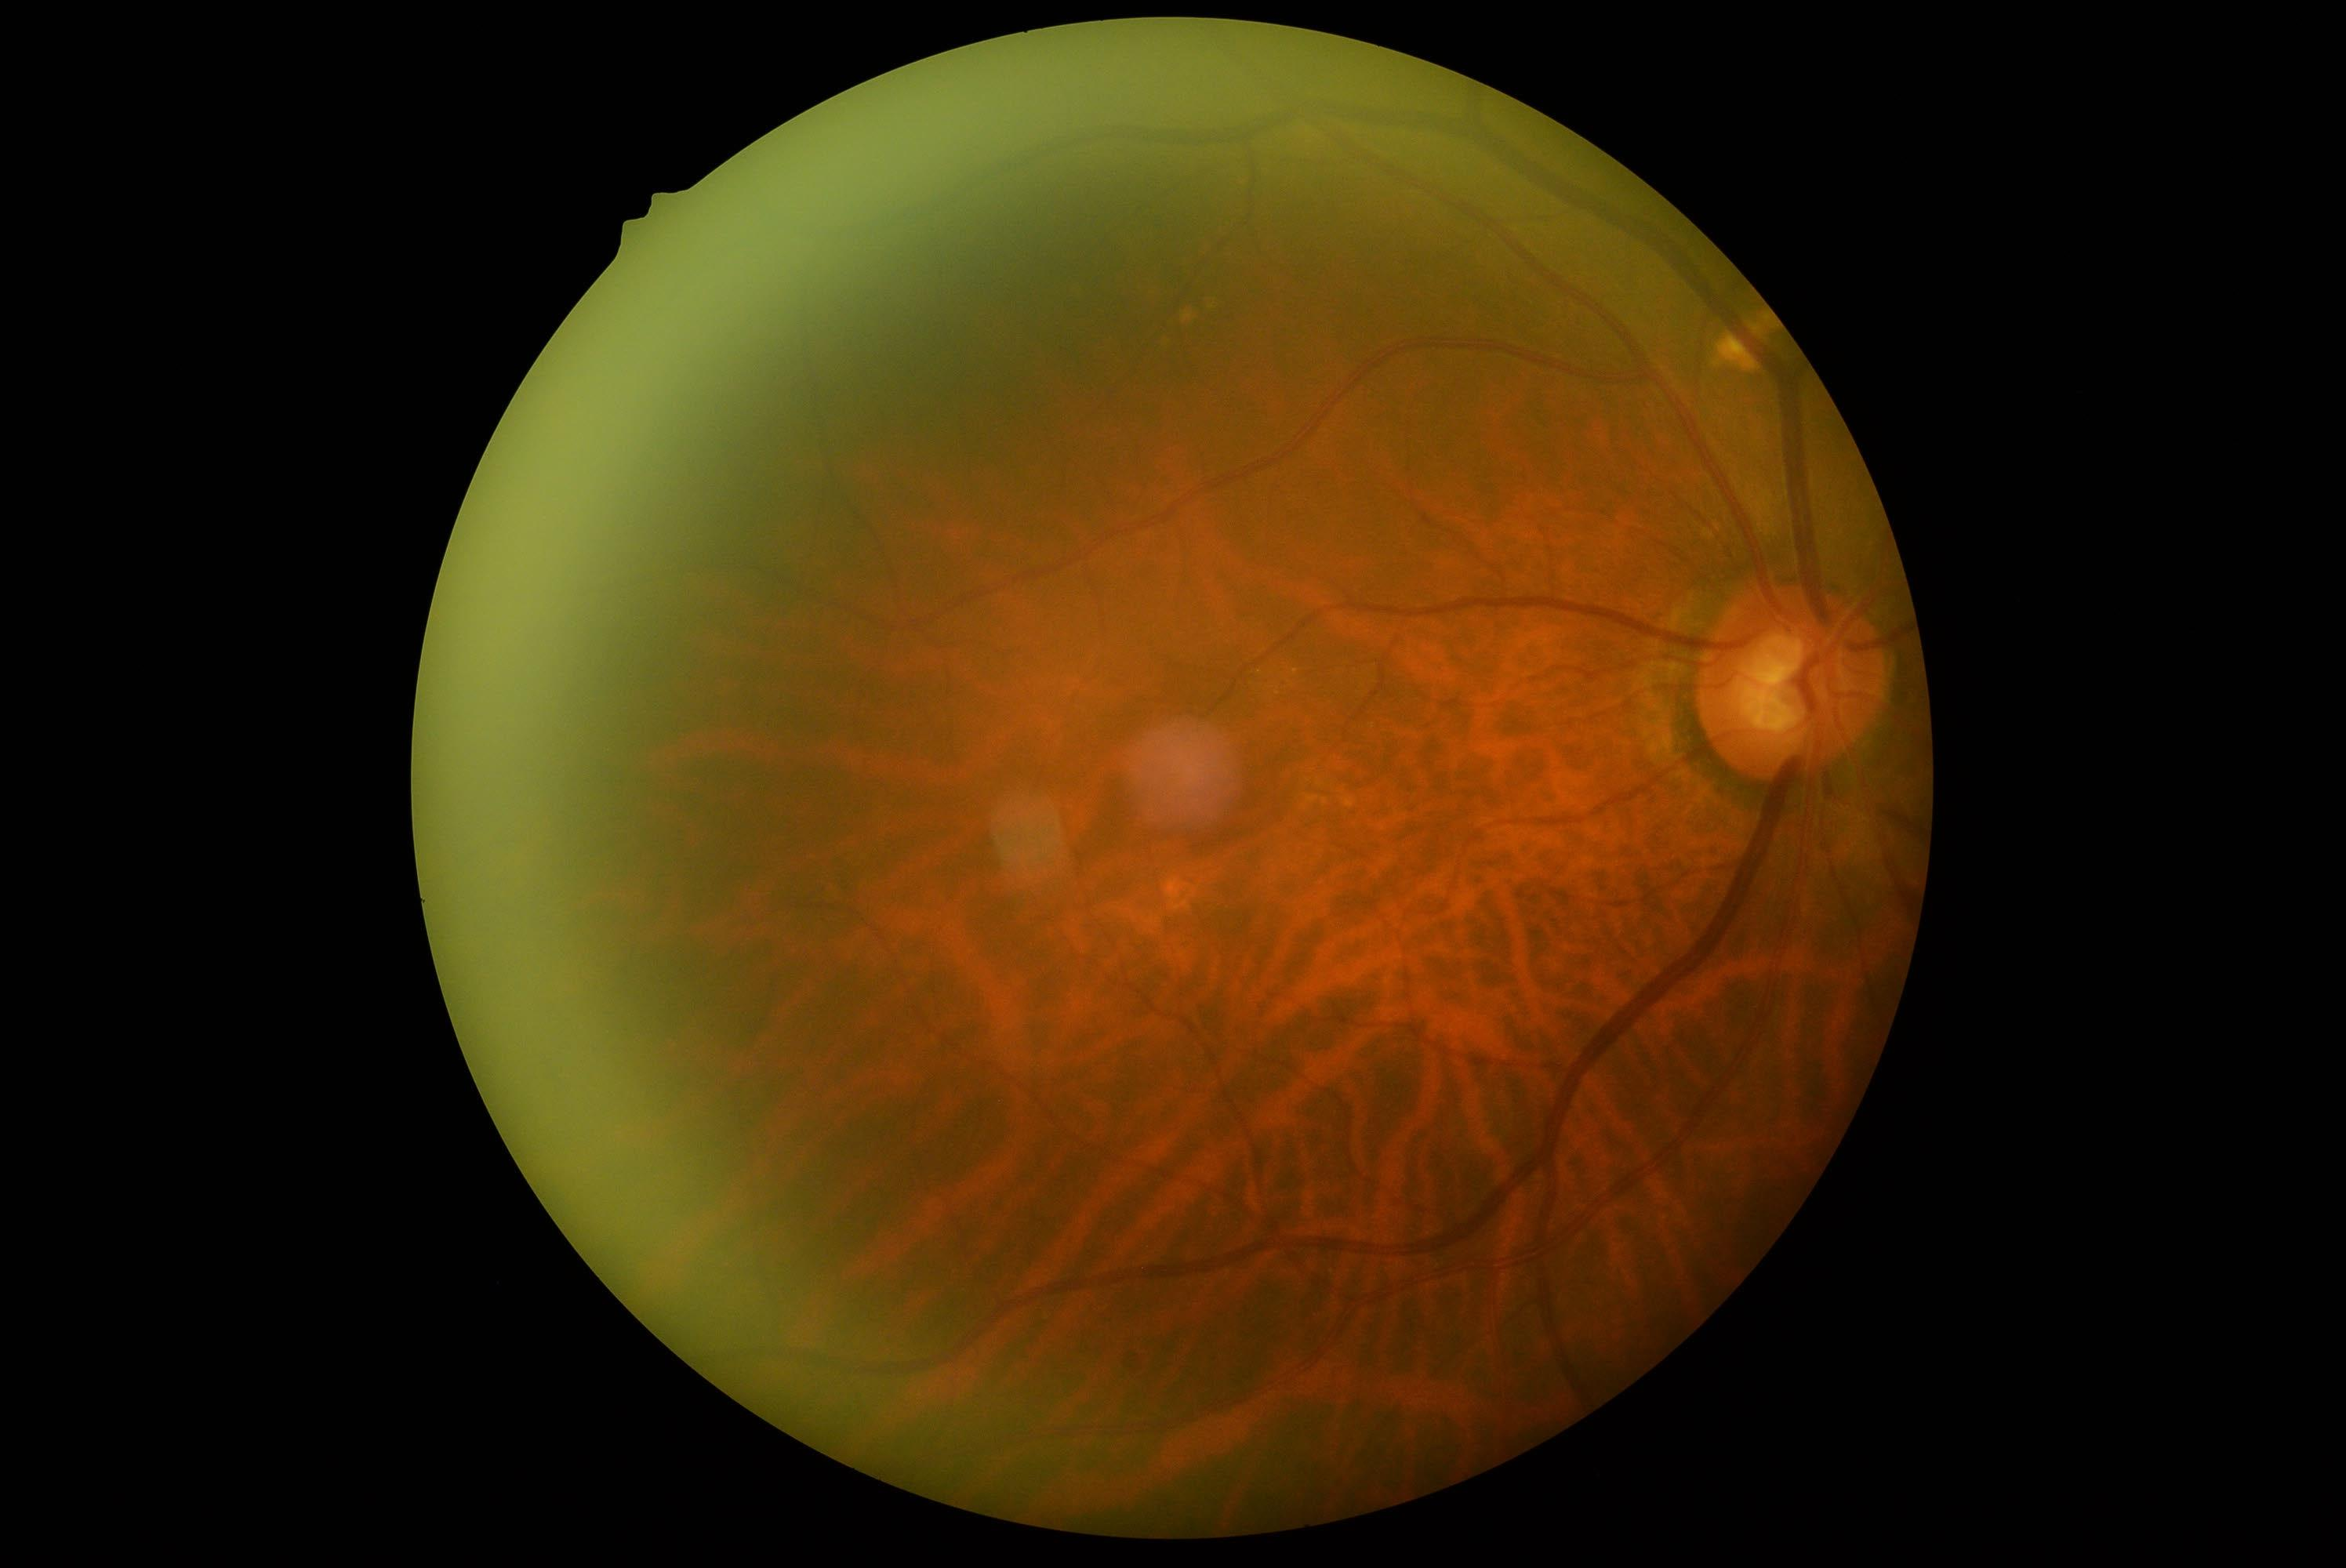Fovea: (1156, 717, 1316, 878)
